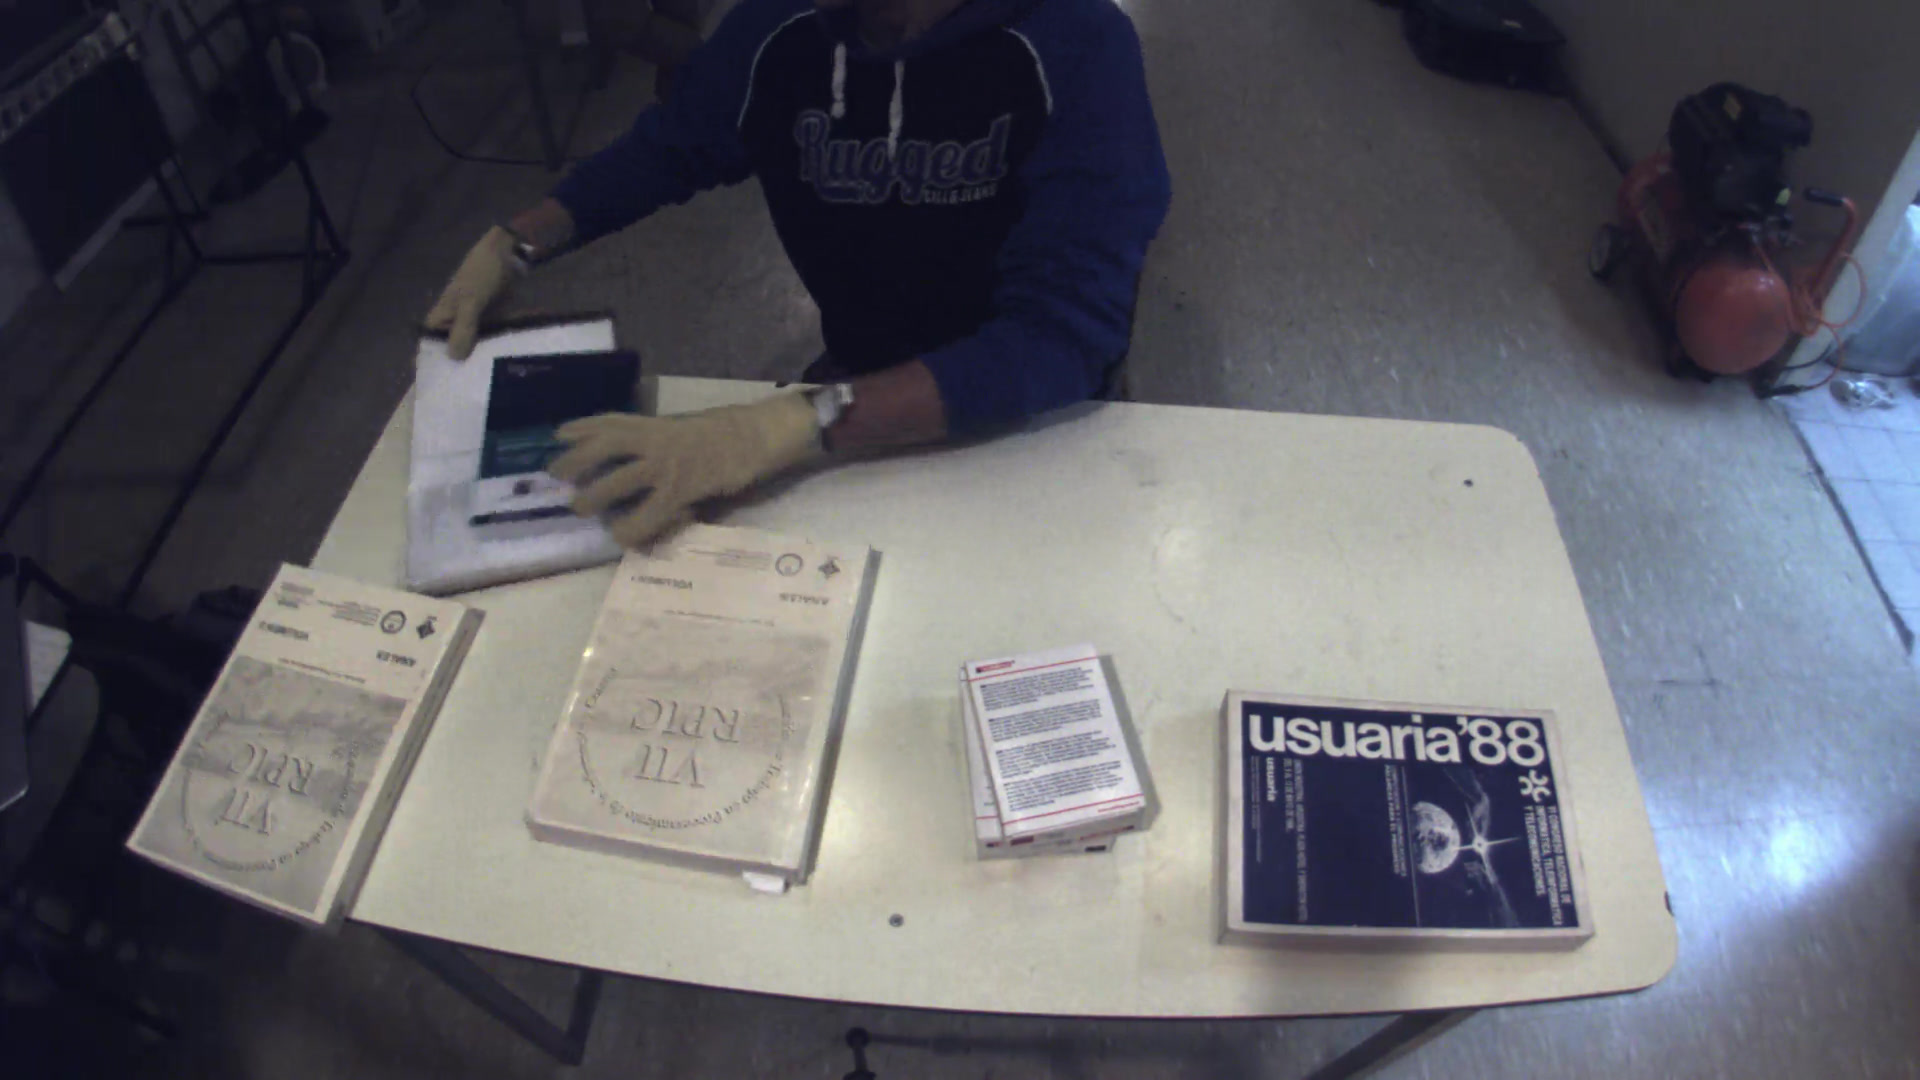hand: (533, 369, 824, 558), (407, 220, 534, 359)
